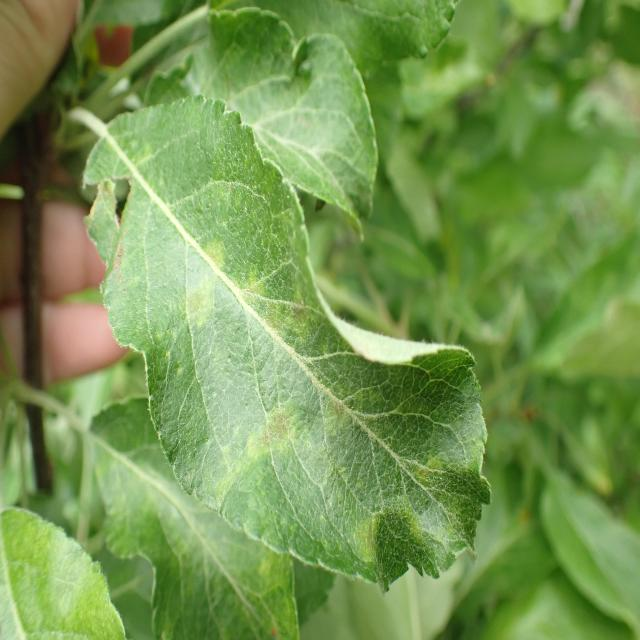scab: (88, 101, 472, 580)
